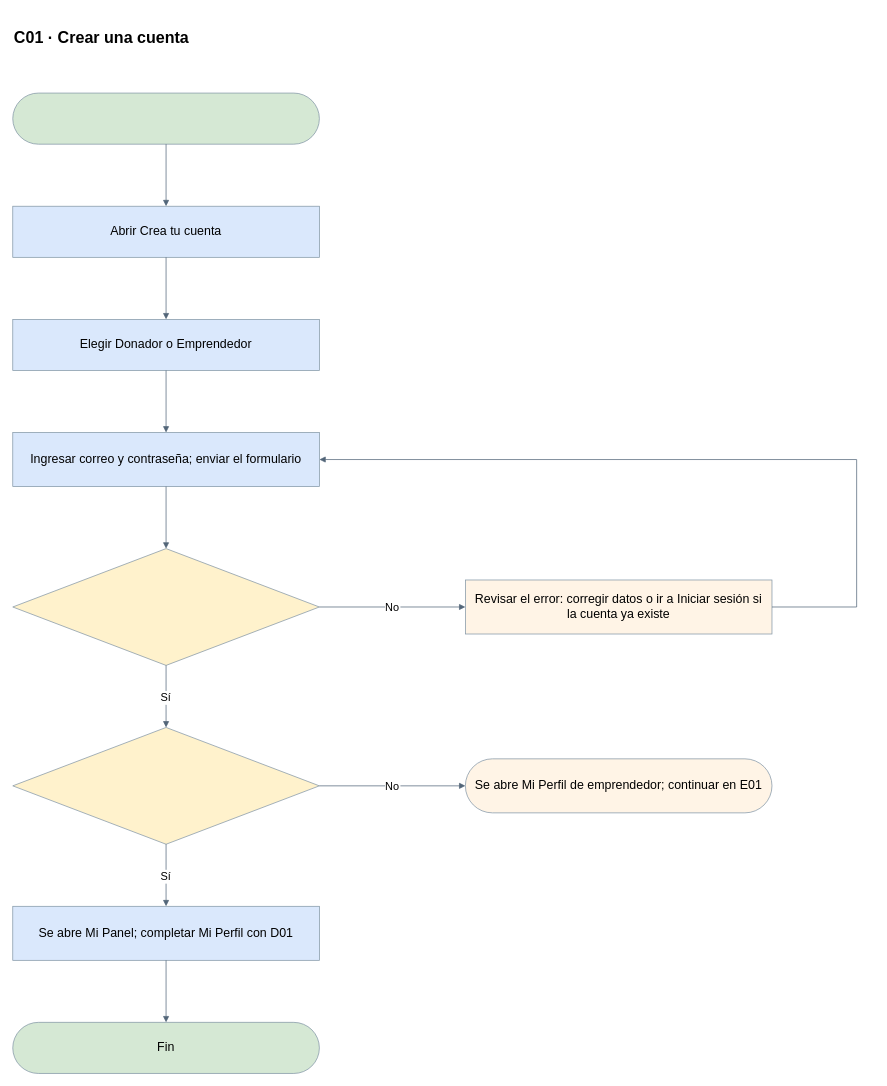
Some shapes in this 887 by 1086 pixel diagram are drawn without their labels. The centre of each missing label's shape, as x and y in pixels:
Inicio: pixel 165 118
¿Elegiste Donador?: pixel 165 785
¿Se completaron registro e inicio de sesión?: pixel 165 606
